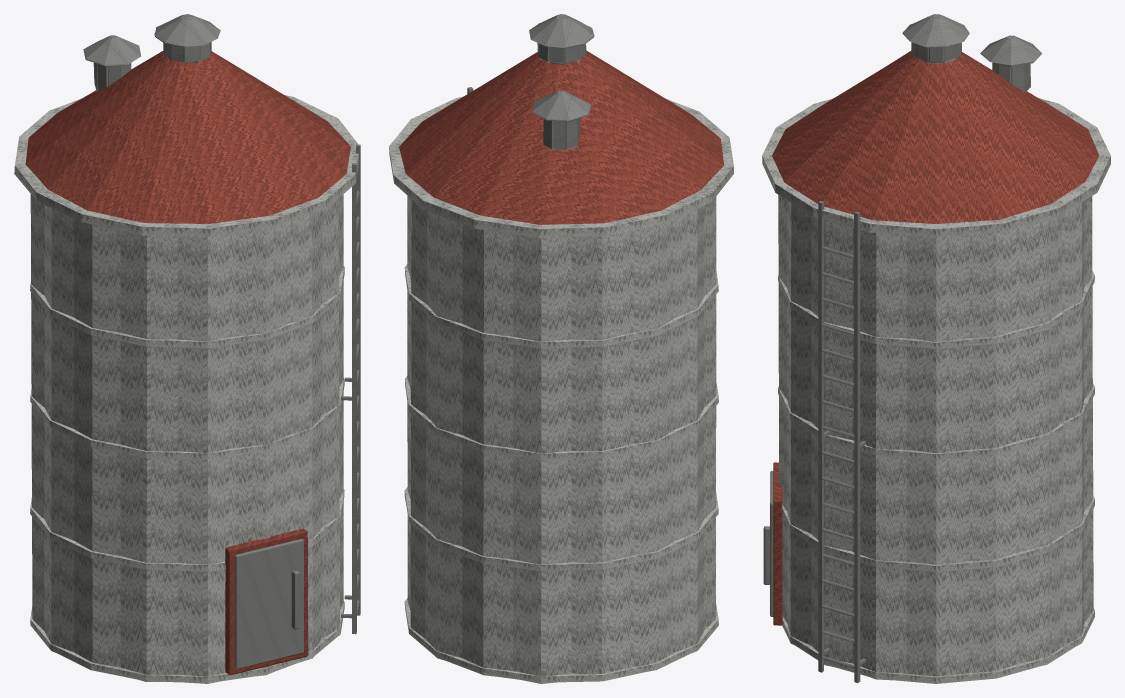
Rendered from silo_small.glb.
The picture shows the model from 3 angles, left to right: view 1: azimuth 30°, elevation 25°; view 2: azimuth 150°, elevation 25°; view 3: azimuth 270°, elevation 25°; orthographic projection.
Visible parts, largest first — view 1: SiloSmall; view 2: SiloSmall; view 3: SiloSmall.
Boxes of the visible parts, box(x1,y1,x2,y2) form: SiloSmall: box(14, 14, 360, 683); SiloSmall: box(389, 14, 733, 683); SiloSmall: box(762, 14, 1110, 683).
Bounding box in the file's own units: 3.11 × 5.93 × 3.11.
Materials: 3 (3 with a texture image).
